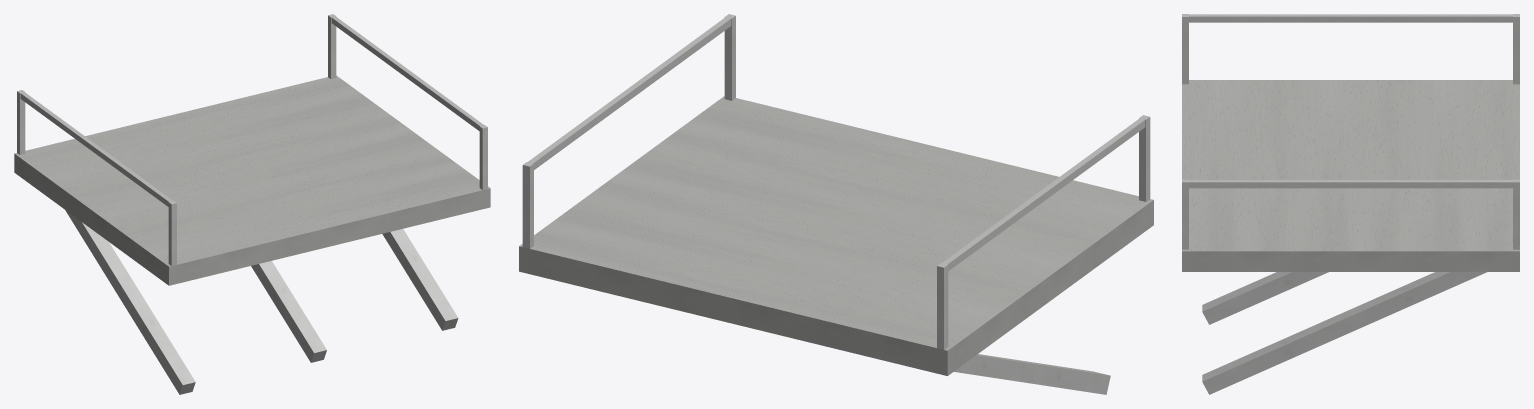
The model's file is sh_canopy.gltf.
3 renders of one model, left to right at view 1: azimuth 30°, elevation 25°; view 2: azimuth 150°, elevation 25°; view 3: azimuth 270°, elevation 25°, orthographic. The views are drawn at different scales.
Visible parts, largest first — view 1: sh_canopy; view 2: sh_canopy; view 3: sh_canopy.
Boxes of the visible parts, x1,y1,x2,y2 form: sh_canopy: [14, 14, 490, 394]; sh_canopy: [519, 14, 1153, 394]; sh_canopy: [1182, 14, 1519, 394].
Bounding box in the file's own units: 6 × 3.65 × 5.
Materials: 2 (2 with a texture image).
